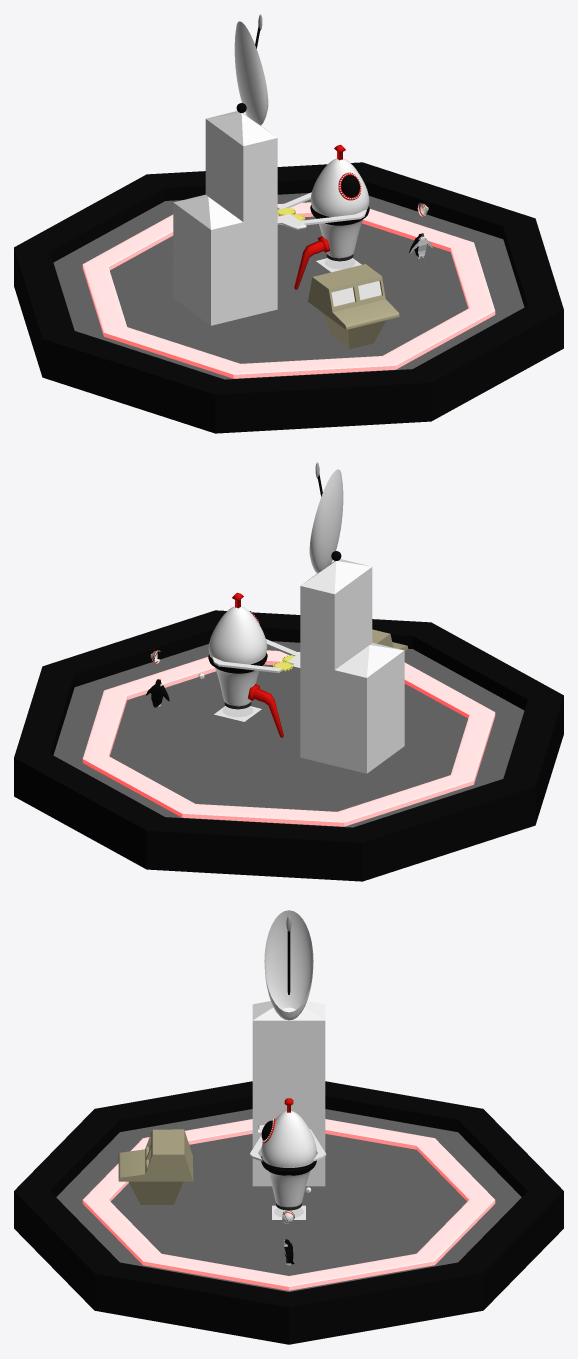
The model's file is spaceship.glb.
3 renders of one model, top to bottom at view 1: azimuth 30°, elevation 25°; view 2: azimuth 150°, elevation 25°; view 3: azimuth 270°, elevation 25°, orthographic. The views are drawn at different scales.
Visible parts, largest first — view 1: pad, tower, control panel, body, Sphere.001, leg body.004; view 2: pad, tower, body, Sphere.001, leg body.004; view 3: pad, tower, control panel, Sphere.001, body, door.
Part boxes in pixels (x1,y1,x2,y2): pad: (14,162,563,433); tower: (173,111,277,325); control panel: (308,264,399,349); body: (310,158,369,258); Sphere.001: (234,21,268,125); leg body.004: (294,236,330,289); pad: (14,610,563,881); tower: (300,559,404,773); body: (208,606,267,706); Sphere.001: (309,469,343,573); leg body.004: (247,684,283,737); pad: (14,1081,563,1344); tower: (252,1001,325,1186); control panel: (118,1129,193,1204); Sphere.001: (264,910,313,1020); body: (261,1110,316,1207); door: (277,1175,300,1206).
Size of what is drawn, in the model's own units: 47.14 by 28.3 by 47.14.
